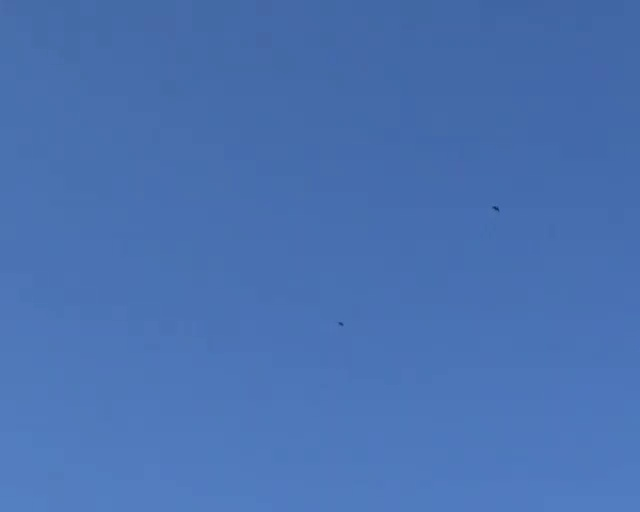BIRD: (337, 320, 344, 327)
